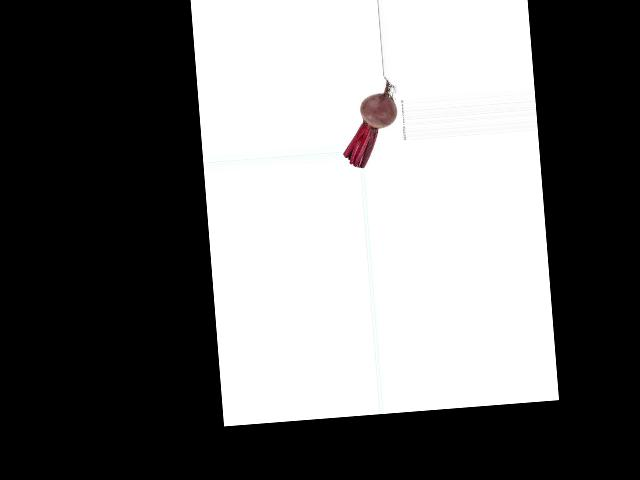beet: (338, 76, 401, 169)
